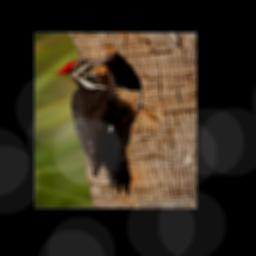Woodpecker: (52, 55, 156, 196)
